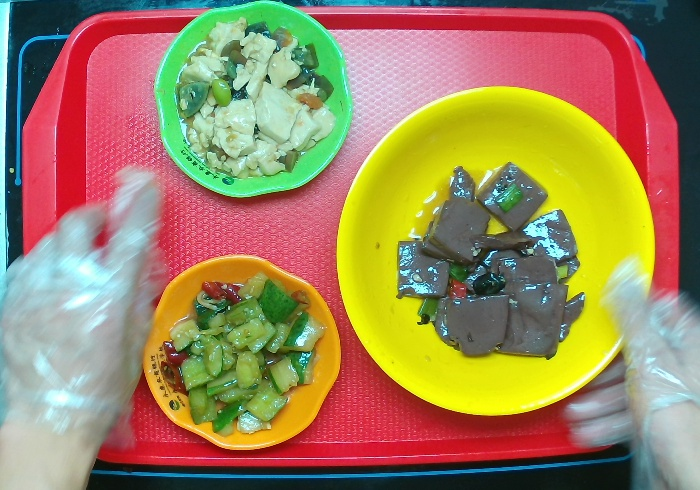YKMZ-Huang_Se_Tang_Wan: (329, 72, 670, 424)
YKMZ-Ju_Se_Ao_Bian_Wan: (133, 241, 352, 458)
YKMZ-Lv_Se_Ao_Bian_Wan: (136, 1, 366, 209)
